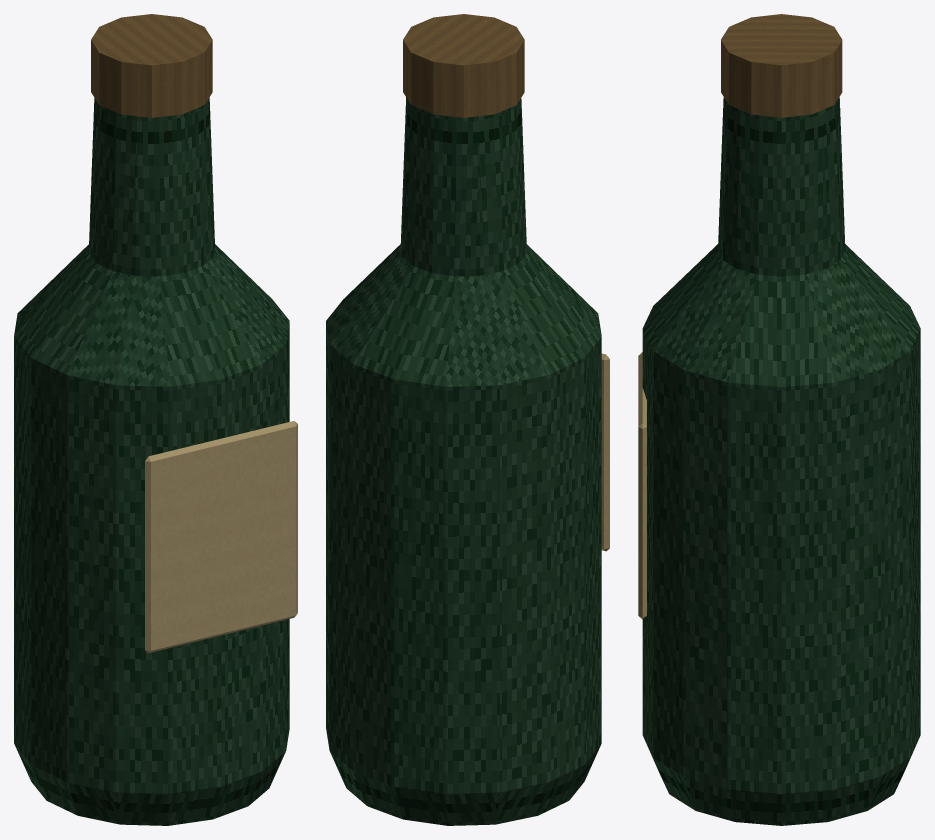
Rendered from level_loose_bottle.glb.
3 renders of one model, left to right at view 1: azimuth 30°, elevation 25°; view 2: azimuth 150°, elevation 25°; view 3: azimuth 270°, elevation 25°, orthographic.
Visible parts, largest first — view 1: level_loose_bottle; view 2: level_loose_bottle; view 3: level_loose_bottle.
Part boxes in pixels (box(x1,y1,x2,y2)): level_loose_bottle: box(14, 14, 297, 825); level_loose_bottle: box(326, 14, 609, 825); level_loose_bottle: box(638, 14, 920, 825).
Size of the model in its own units: 0.096 by 0.28 by 0.0975.
3 materials, 3 textured.
